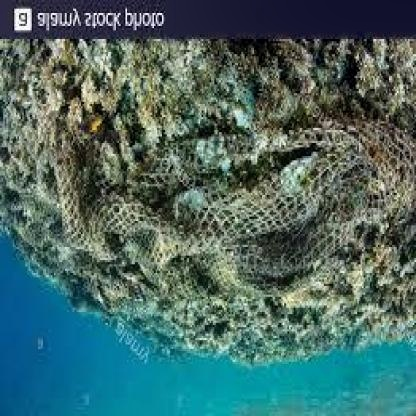net: (54, 113, 405, 271)
